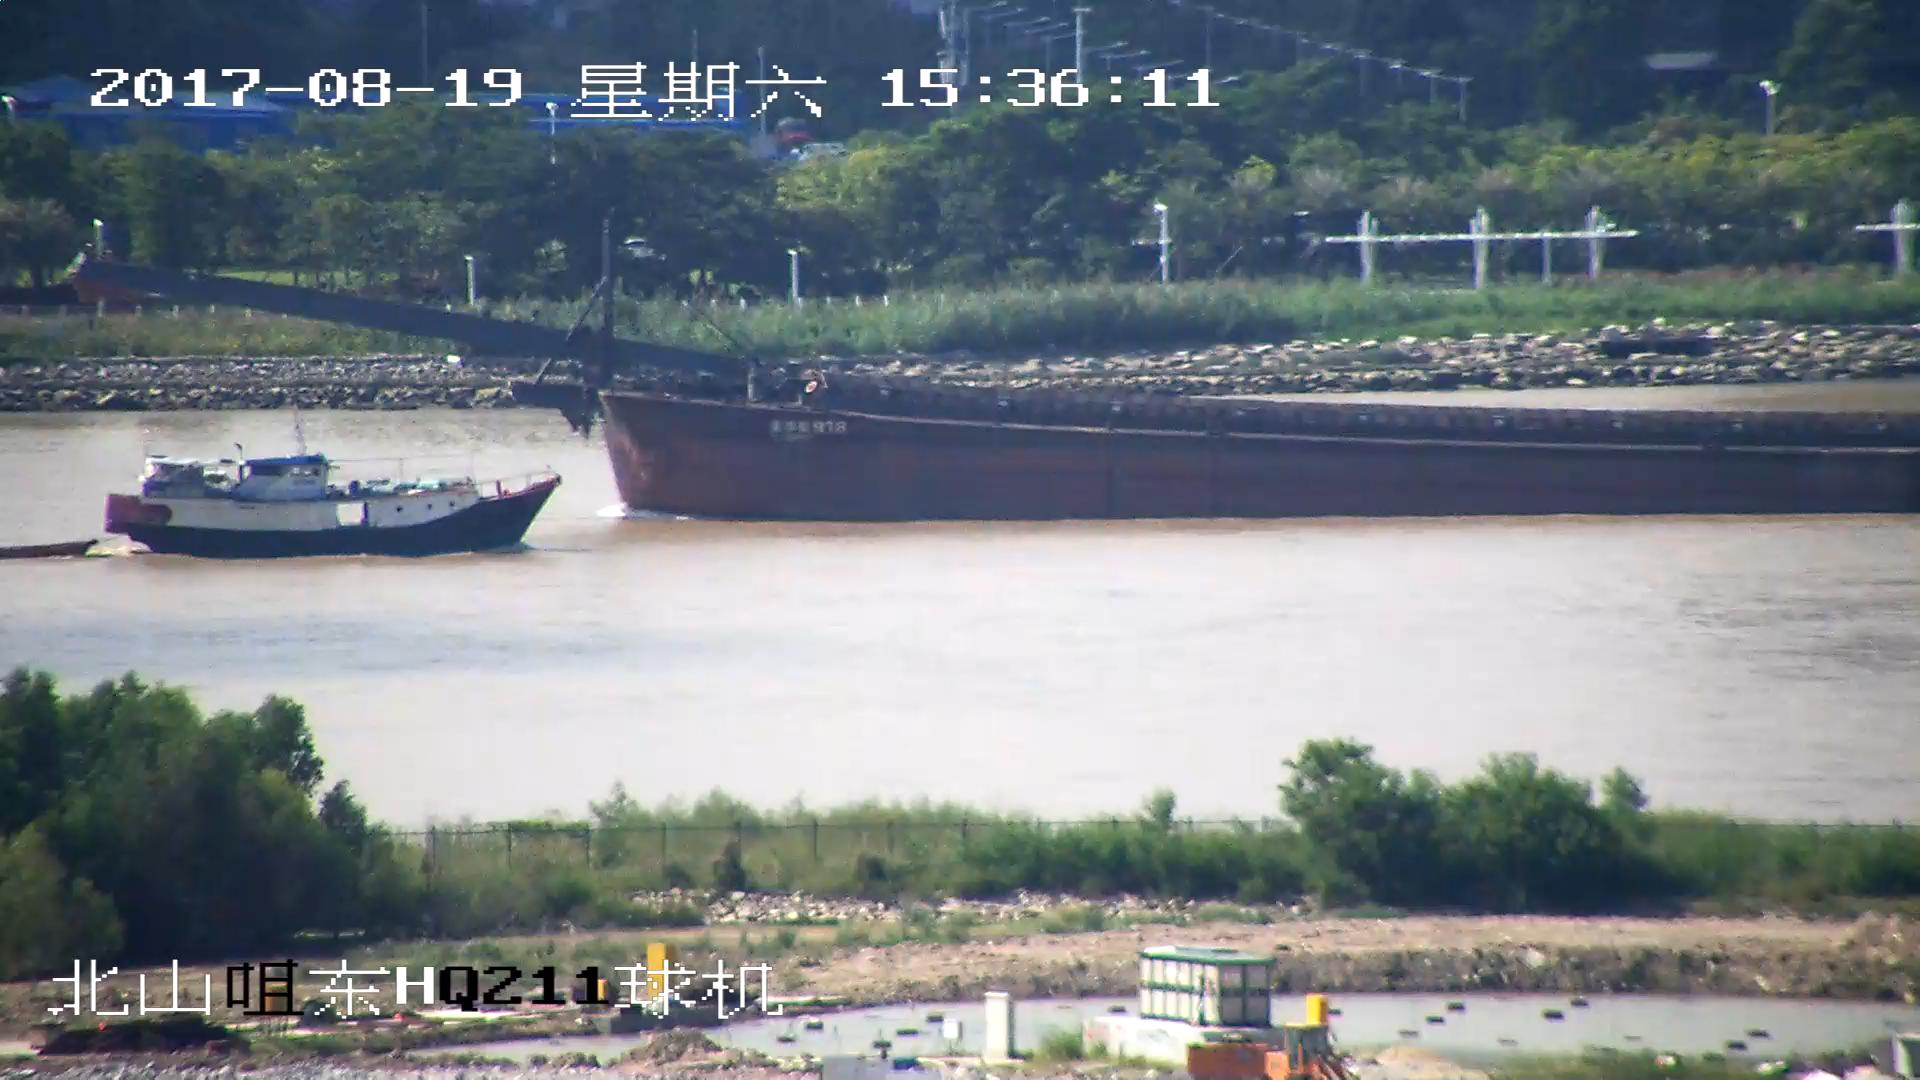bulk cargo carrier: (76, 254, 1920, 516)
fishing boat: (100, 455, 562, 560)
